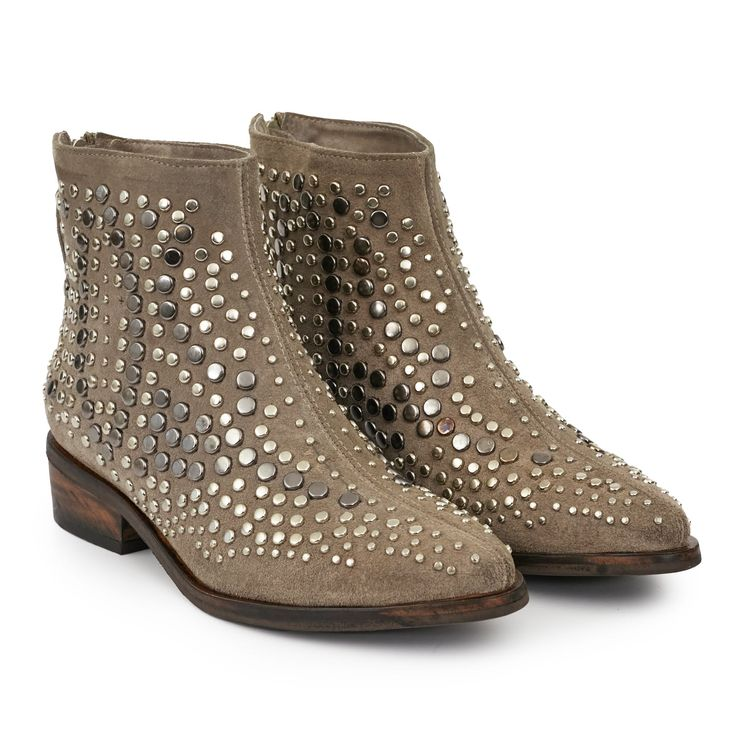gamuza: (45, 112, 692, 610)
